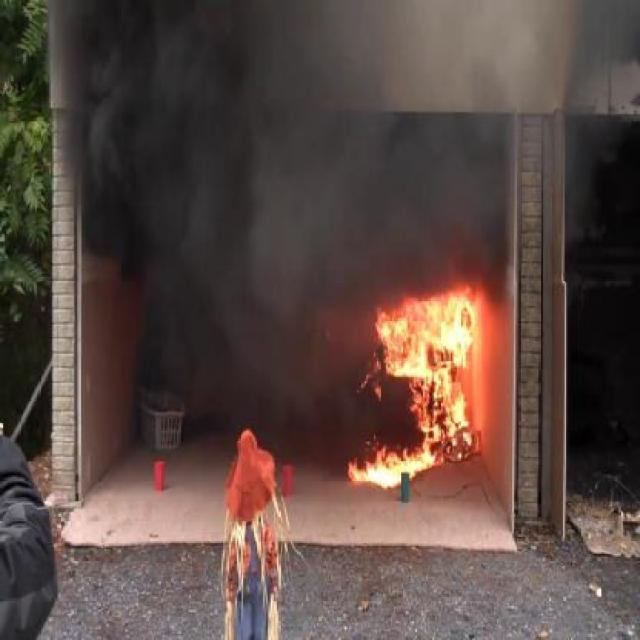fire: (349, 309, 482, 494)
smoke: (70, 19, 342, 448)
